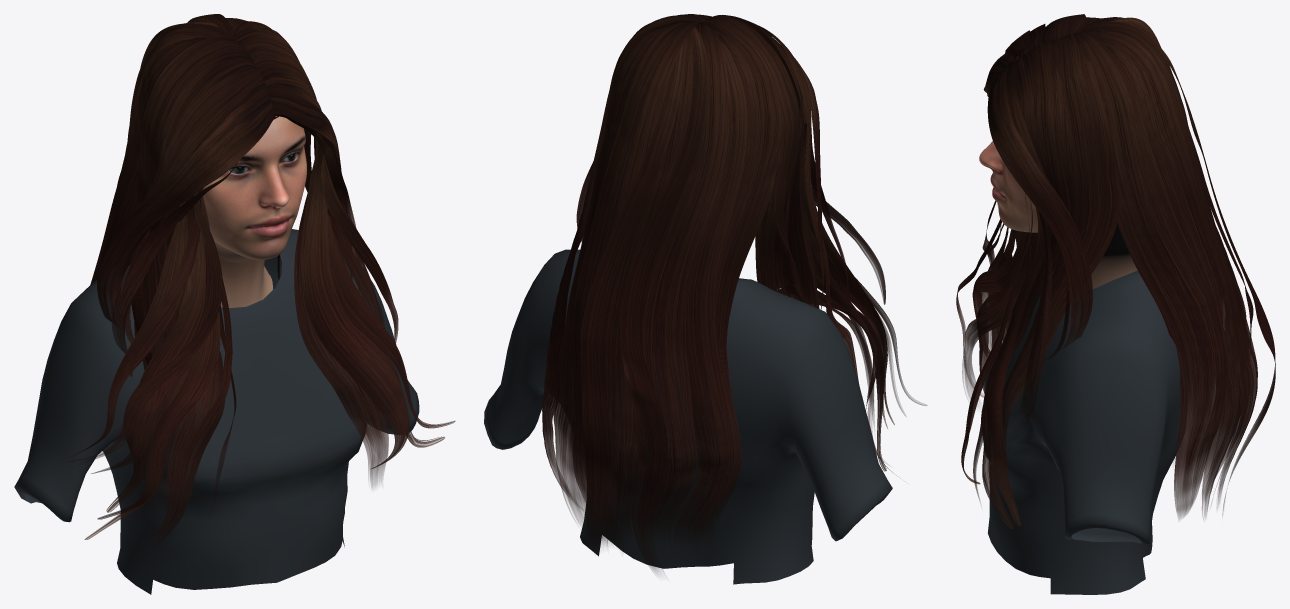
Rendered from portrait-study.glb.
3 renders of one model, left to right at view 1: azimuth 30°, elevation 25°; view 2: azimuth 150°, elevation 25°; view 3: azimuth 270°, elevation 25°, orthographic. The views are drawn at different scales.
Visible parts, largest first — view 1: Portrait hair, Portrait shoulders, ReferenceWomanFace; view 2: Portrait hair, Portrait shoulders; view 3: Portrait hair, Portrait shoulders, ReferenceWomanFace.
Boxes of the visible parts, box(x1,y1,x2,y2) form: Portrait hair: box(67, 14, 455, 546); Portrait shoulders: box(14, 229, 419, 594); ReferenceWomanFace: box(202, 116, 306, 308); Portrait hair: box(542, 14, 927, 572); Portrait shoulders: box(484, 249, 892, 584); Portrait hair: box(956, 14, 1275, 528); Portrait shoulders: box(981, 268, 1188, 594); ReferenceWomanFace: box(979, 141, 1137, 288).
Bounding box in the file's own units: 0.4903 × 0.6403 × 0.355.
Materials: 5 (2 with a texture image).
